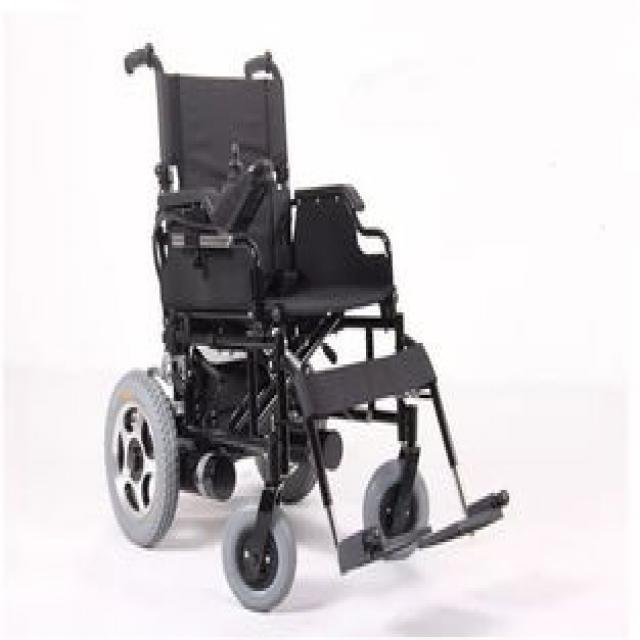wheelchair: (74, 42, 534, 612)
